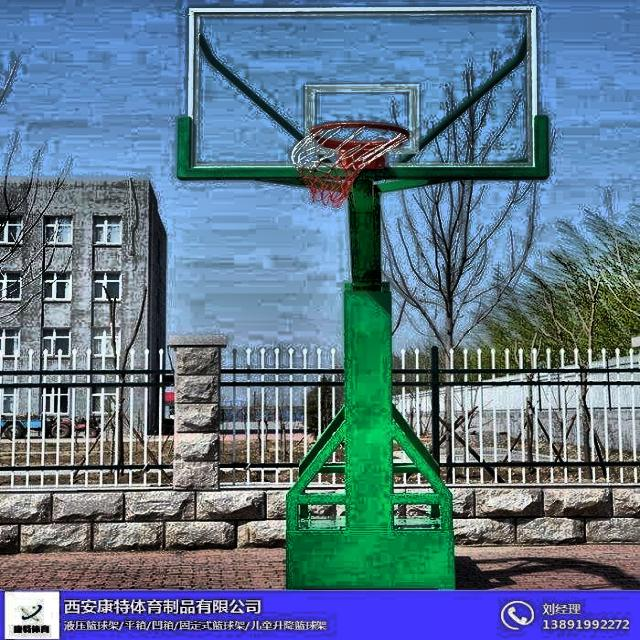rim: (287, 122, 411, 200)
